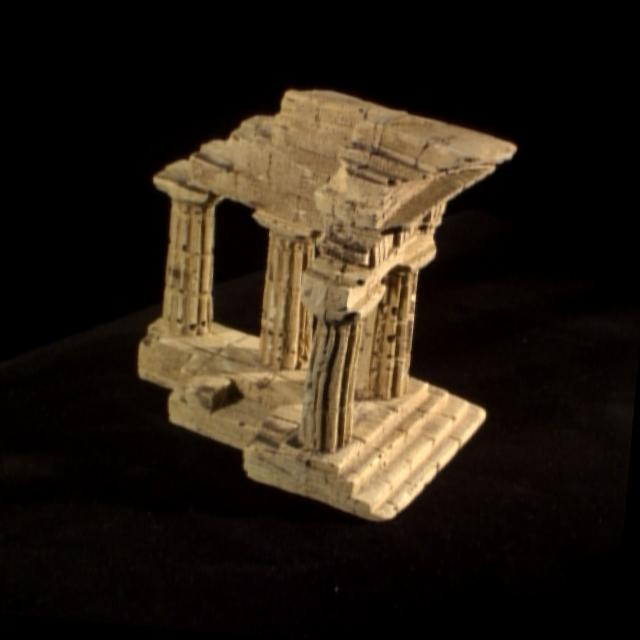Instance-Segmentation: (138, 89, 513, 519)
